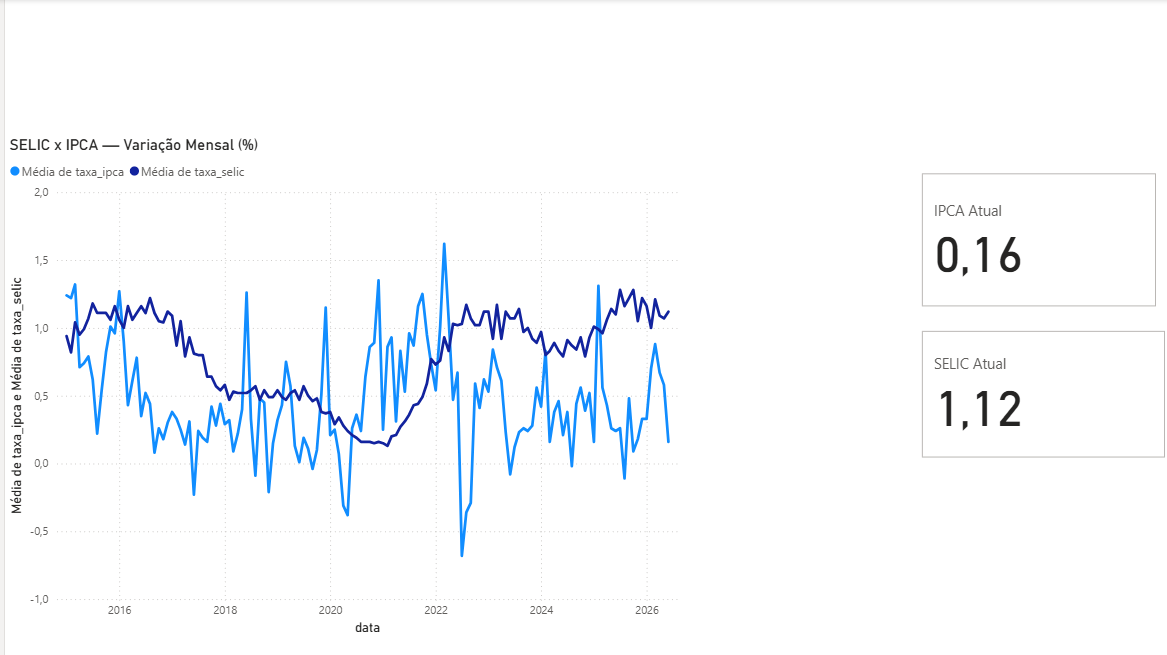

What the dashboard file says about the page in this screenshot:
{"tool":"powerbi","page":{"name":"Indicadores econômicos","canvas":[1280,720],"ordinal":0},"visuals":[{"type":"lineChart","title":"SELIC x IPCA — Variação Mensal (%)","fields":{"Y":["Avg(Consulta1.taxa_ipca)","Avg(Consulta1.taxa_selic)"],"Category":["Consulta1.data"]},"box":[0,149.6,746.5,553],"z":0},{"type":"cardVisual","fields":{"Data":["Consulta1.IPCA Atual"]},"box":[1001.7,186.6,267.6,156.4],"z":1},{"type":"cardVisual","fields":{"Data":["Consulta1.SELIC Atual"]},"box":[1001.7,359.5,278.6,149.6],"z":2}]}

Visuals, with their boxes in screenshot pixels (x1, y1, x2, y2), scaled from the page's 1280x720 canvas onto the 1167x655 screenshot:
"SELIC x IPCA — Variação Mensal (%)" lineChart: crop(0, 136, 681, 639)
cardVisual - Consulta1.IPCA Atual: crop(913, 170, 1157, 312)
cardVisual - Consulta1.SELIC Atual: crop(913, 327, 1166, 463)
